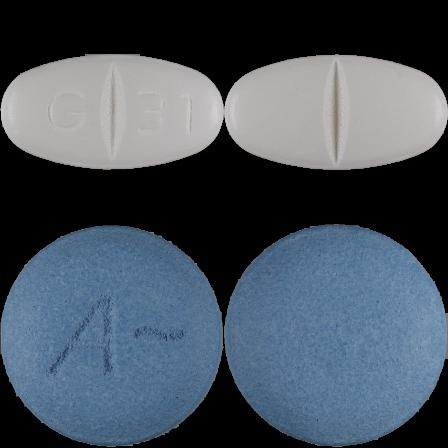63629-3063: (0, 0, 224, 224)
